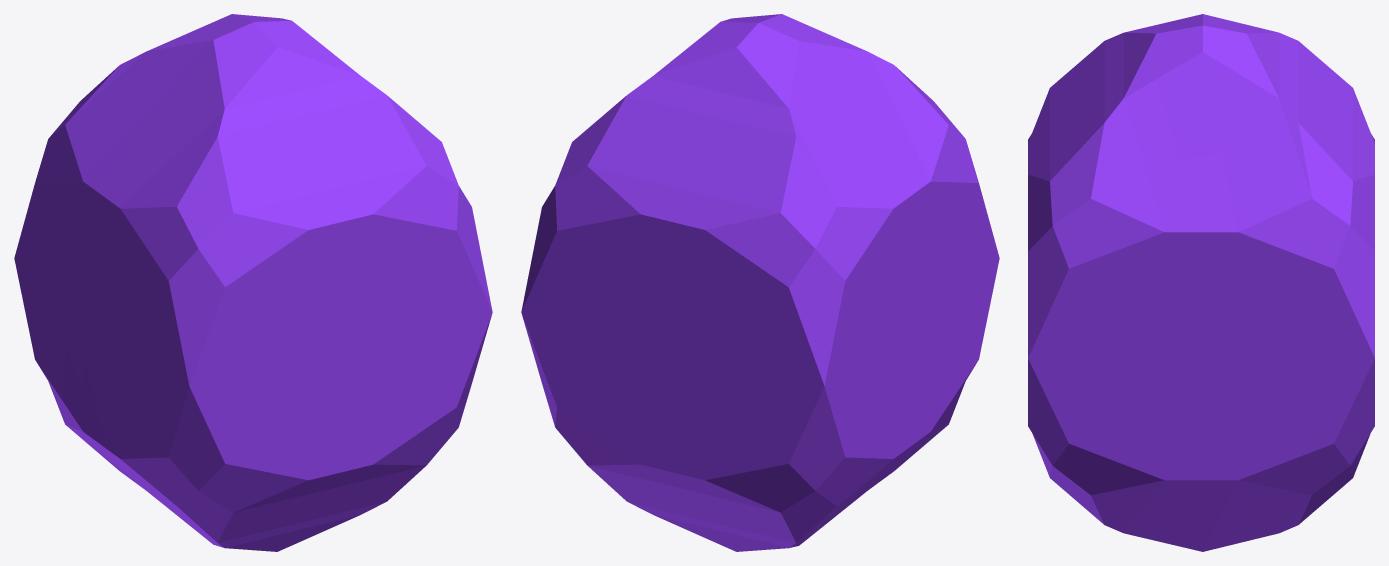
Rendered from disgust.glb.
The picture shows the model from 3 angles, left to right: view 1: azimuth 30°, elevation 25°; view 2: azimuth 150°, elevation 25°; view 3: azimuth 270°, elevation 25°; orthographic projection.
Visible parts, largest first — view 1: ziran.821; view 2: ziran.821; view 3: ziran.821.
Boxes of the visible parts, x1,y1,x2,y2 form: ziran.821: (14, 14, 492, 551); ziran.821: (521, 14, 999, 551); ziran.821: (1028, 14, 1374, 551).
Bounding box in the file's own units: 0.378 × 0.6206 × 0.378.
Materials: 1 (1 with a texture image).
